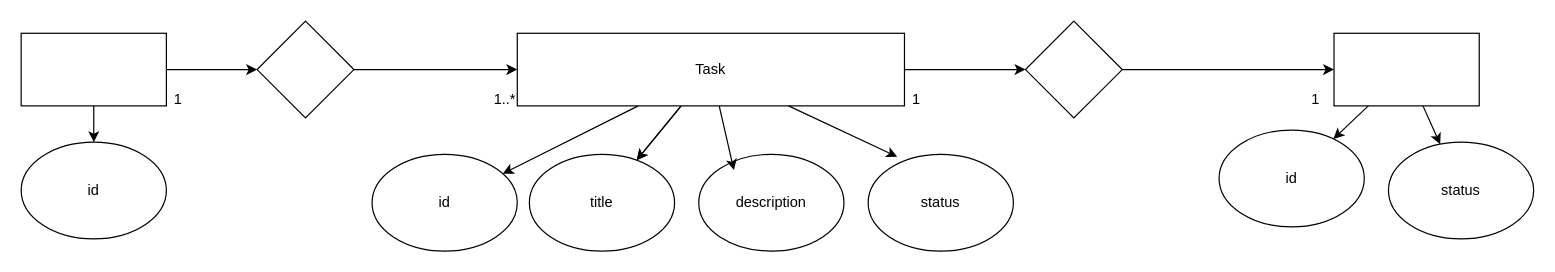
This 1555x272 diagram has some shape labels left out. Each missing label, with the box of its shape:
has: (256, 20, 354, 118)
Priority: (1333, 32, 1479, 106)
refers to: (1024, 20, 1122, 118)
Student: (20, 32, 166, 106)
